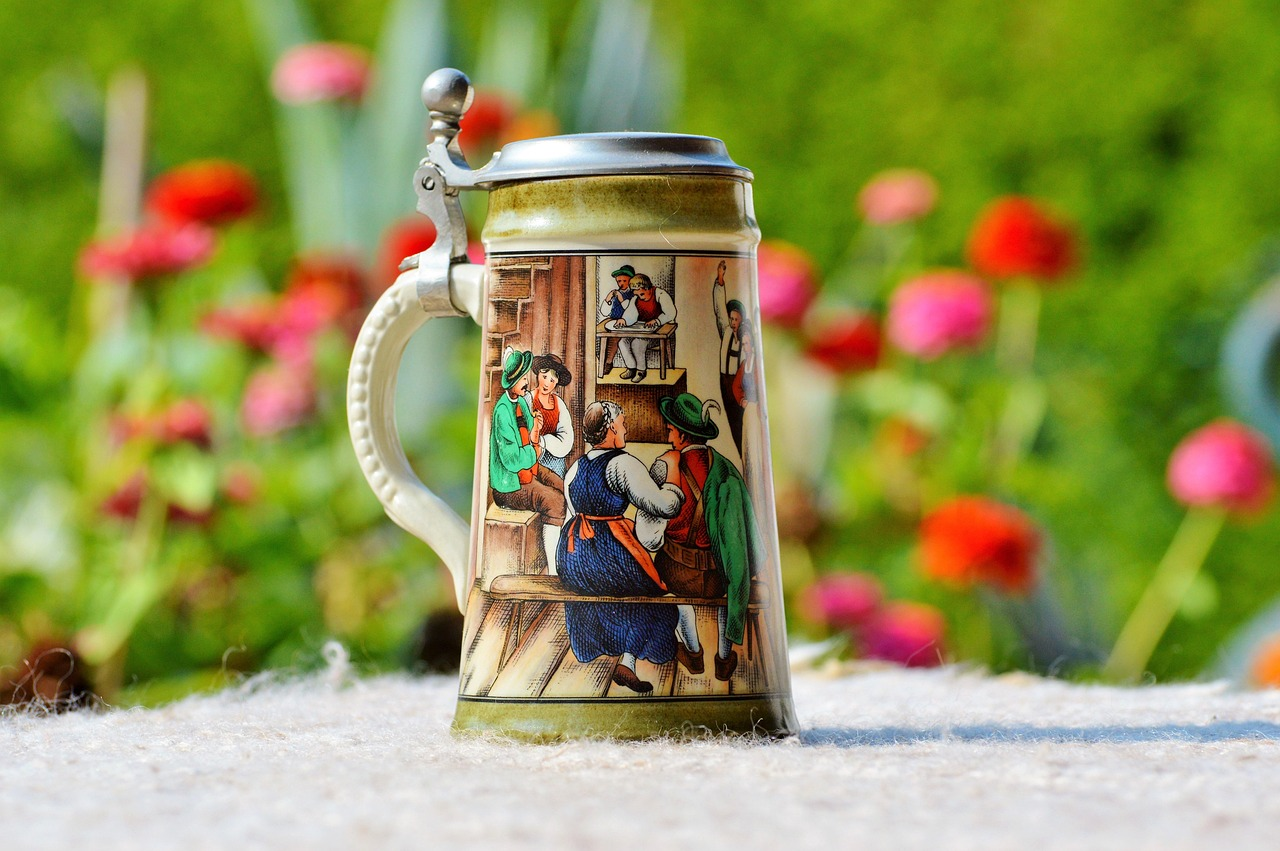mug: (263, 111, 816, 707)
